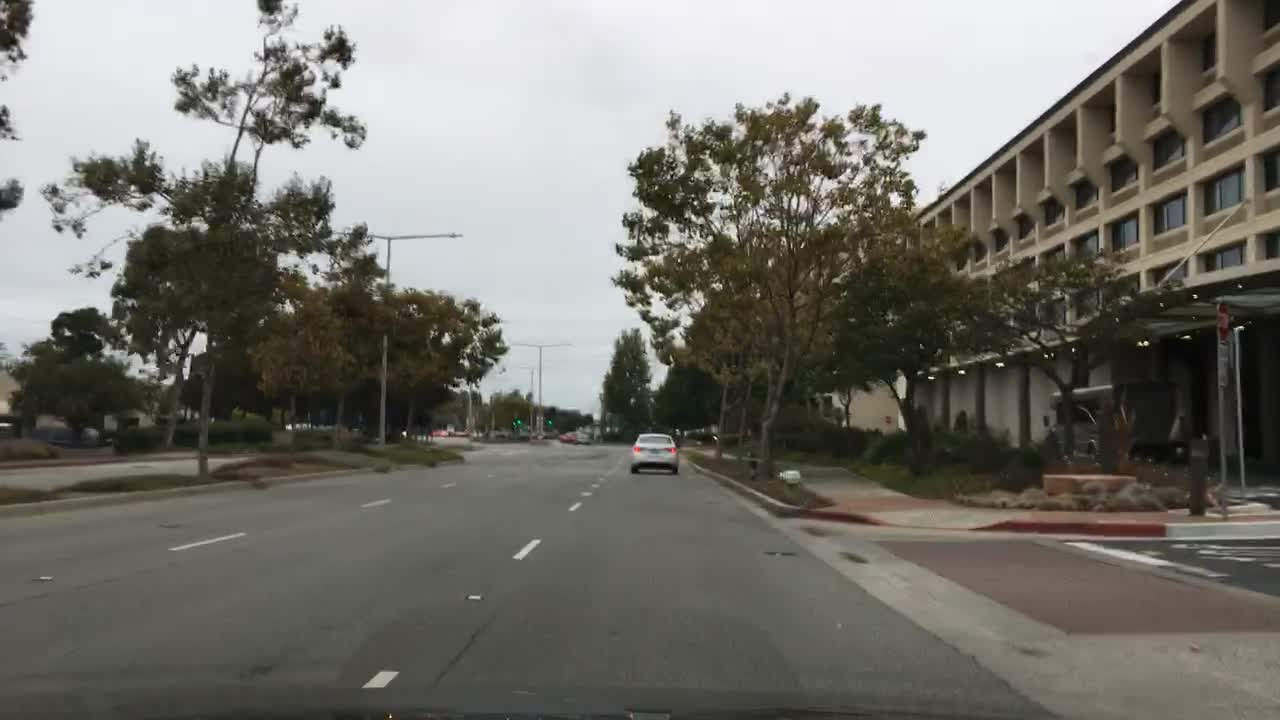car: (1043, 382, 1179, 462), (629, 431, 679, 477), (679, 428, 723, 445), (572, 430, 592, 446), (558, 430, 575, 443)
person: (952, 407, 969, 430)
traffic sign: (1216, 303, 1232, 391)
